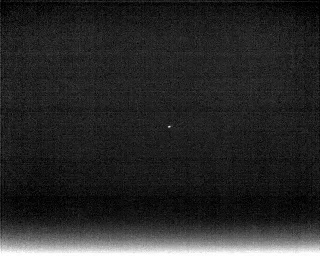AIRPLANE: (165, 122, 173, 131)
